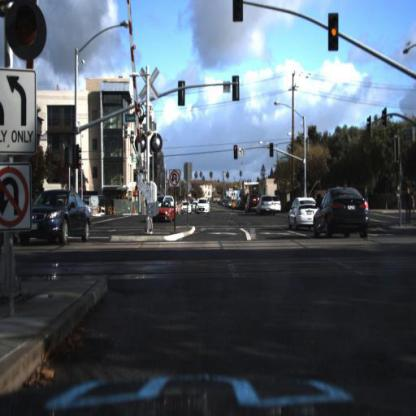car: (16, 188, 94, 248), (312, 176, 369, 246), (29, 187, 96, 245), (288, 193, 317, 240), (288, 193, 320, 229), (72, 191, 95, 225), (153, 201, 177, 228), (240, 191, 261, 214), (255, 195, 276, 218), (245, 189, 262, 216), (259, 193, 275, 214), (196, 198, 212, 217), (270, 196, 284, 210), (181, 200, 191, 217), (276, 193, 283, 217)
pedestrian: (404, 179, 415, 234), (401, 183, 414, 223)
trafficLight: (1, 1, 70, 67), (328, 13, 340, 51), (230, 141, 240, 171), (269, 140, 276, 158)
trafficLight-Green: (299, 163, 307, 183)
trafficLight-Yellow: (324, 9, 345, 58)
